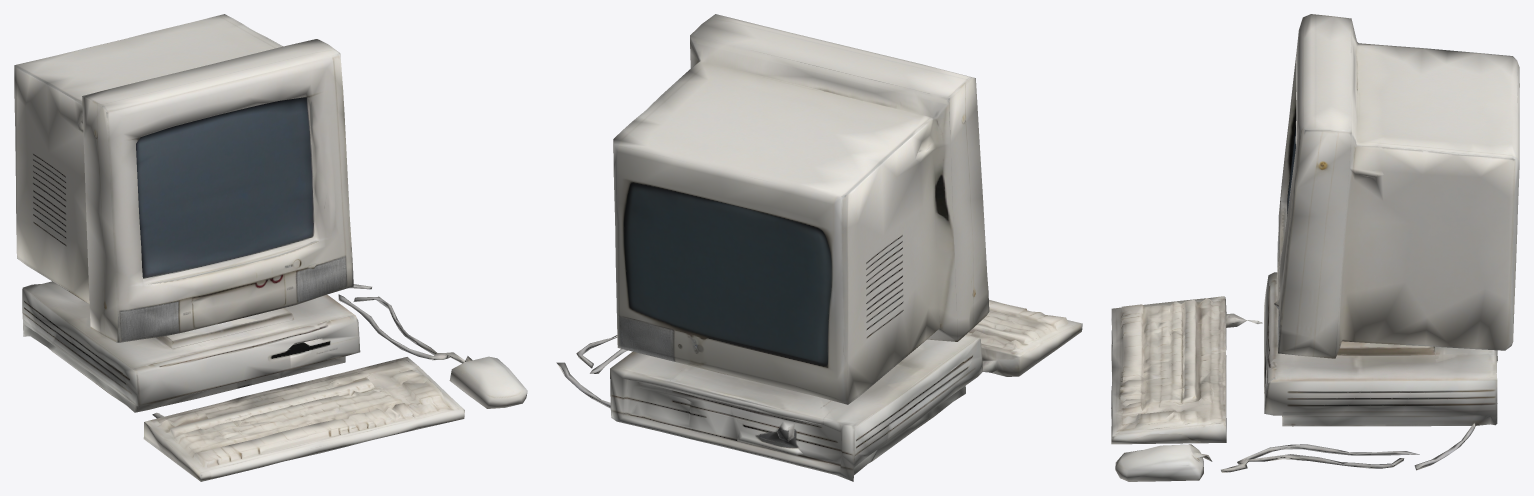
Rendered from computer_chip.glb.
3 renders of one model, left to right at view 1: azimuth 30°, elevation 25°; view 2: azimuth 150°, elevation 25°; view 3: azimuth 270°, elevation 25°, orthographic. The views are drawn at different scales.
Bounding box in the file's own units: 1.9 × 1.66 × 2.01.
Materials: 1 (1 with a texture image).
